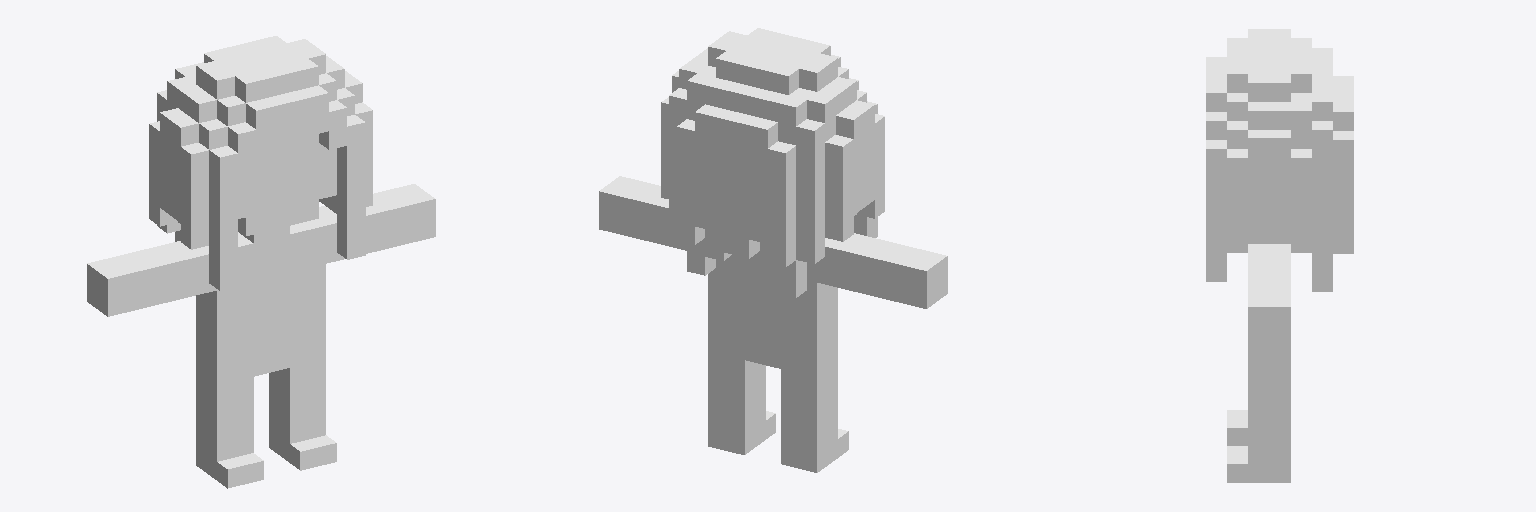
File: girl.obj
The picture shows the model from 3 angles: view 1: azimuth 30°, elevation 25°; view 2: azimuth 150°, elevation 25°; view 3: azimuth 270°, elevation 25°; orthographic projection.
Parts seen in each view (by area): view 1: object 1; view 2: object 1; view 3: object 1.
Part boxes in pixels (x1,y1,x2,y2): object 1: (87,36,435,488); object 1: (599,28,947,472); object 1: (1206,29,1353,482).
Size of the model in its own units: 1.8 by 2.1 by 0.7.